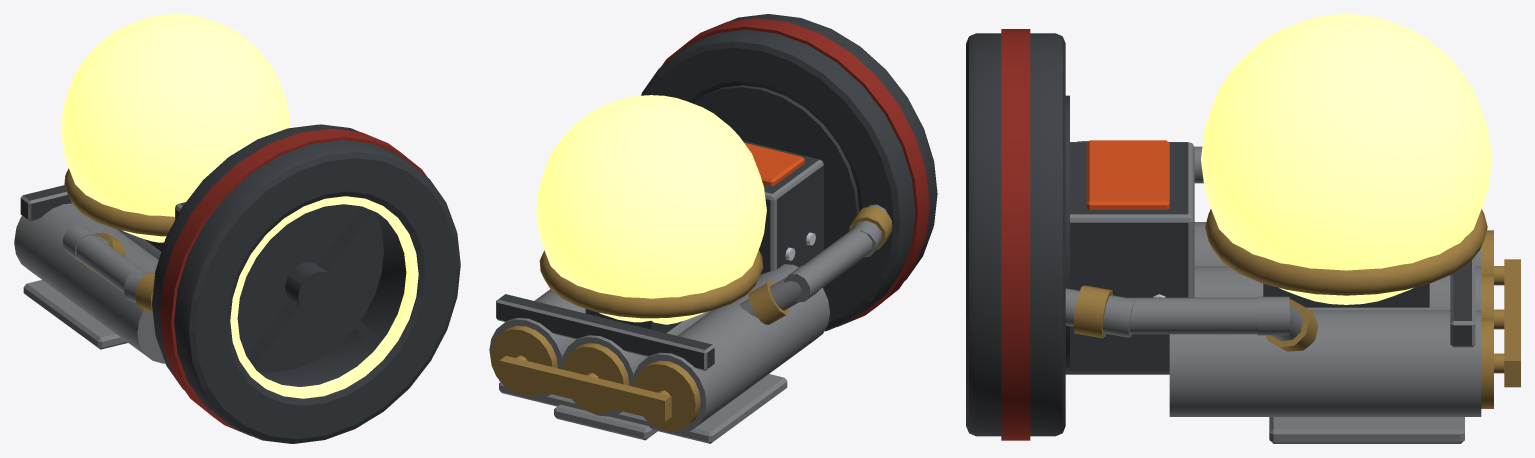
File: gauntlet_repulsor.fbx
3 views of the same model, side by side, from view 1: azimuth 30°, elevation 25°; view 2: azimuth 150°, elevation 25°; view 3: azimuth 270°, elevation 25° (orthographic). The views are drawn at different scales.
Parts seen in each view (by area): view 1: Mesh_Repulsor_Ring, Mesh_Repulsor_Capacitor, Mesh_Repulsor_Backplate, Mesh_Repulsor_CapLeft, Mesh_Repulsor_Stripe, Mesh_Repulsor_Glow, Mesh_Repulsor_Vanes, Mesh_Repulsor_ConduitLeft, Mesh_Repulsor_Cradle, Mesh_Repulsor_Bracket, Mesh_Repulsor_Strap; view 2: Mesh_Repulsor_Capacitor, Mesh_Repulsor_Ring, Mesh_Repulsor_CapLeft, Mesh_Repulsor_Backplate, Mesh_Repulsor_Stripe, Mesh_Repulsor_Throat, Mesh_Repulsor_ConduitLeft, Mesh_Repulsor_Strap, Mesh_Repulsor_Cradle, Mesh_Repulsor_BusBar, Mesh_Repulsor_Bracket, Mesh_Repulsor_CapRight (+2 smaller); view 3: Mesh_Repulsor_Capacitor, Mesh_Repulsor_CapRight, Mesh_Repulsor_Ring, Mesh_Repulsor_Throat, Mesh_Repulsor_Stripe, Mesh_Repulsor_ConduitRight, Mesh_Repulsor_Cradle, Mesh_Repulsor_Cover, Mesh_Repulsor_Bracket, Mesh_Repulsor_CapMid, Mesh_Repulsor_BusBar, Mesh_Repulsor_Strap (+2 smaller).
Boxes of the visible parts, x1,y1,x2,y2 form: Mesh_Repulsor_Ring: [152, 124, 460, 443]; Mesh_Repulsor_Capacitor: [60, 14, 290, 242]; Mesh_Repulsor_Backplate: [237, 204, 383, 372]; Mesh_Repulsor_CapLeft: [14, 203, 165, 363]; Mesh_Repulsor_Stripe: [159, 128, 426, 436]; Mesh_Repulsor_Glow: [230, 196, 418, 398]; Mesh_Repulsor_Vanes: [246, 206, 382, 371]; Mesh_Repulsor_ConduitLeft: [63, 225, 154, 312]; Mesh_Repulsor_Cradle: [64, 168, 174, 251]; Mesh_Repulsor_Bracket: [23, 280, 127, 349]; Mesh_Repulsor_Strap: [20, 185, 71, 221]; Mesh_Repulsor_Capacitor: [536, 95, 766, 324]; Mesh_Repulsor_Ring: [641, 14, 937, 331]; Mesh_Repulsor_CapLeft: [632, 264, 829, 433]; Mesh_Repulsor_Backplate: [693, 85, 859, 249]; Mesh_Repulsor_Stripe: [661, 18, 929, 326]; Mesh_Repulsor_Throat: [743, 141, 823, 274]; Mesh_Repulsor_ConduitLeft: [739, 204, 892, 324]; Mesh_Repulsor_Strap: [496, 294, 714, 370]; Mesh_Repulsor_Cradle: [539, 250, 763, 333]; Mesh_Repulsor_BusBar: [499, 356, 671, 421]; Mesh_Repulsor_Bracket: [499, 374, 787, 443]; Mesh_Repulsor_CapRight: [489, 289, 585, 398]; Mesh_Repulsor_Capacitor: [1201, 14, 1491, 304]; Mesh_Repulsor_CapRight: [1169, 310, 1504, 416]; Mesh_Repulsor_Ring: [966, 33, 1065, 436]; Mesh_Repulsor_Throat: [1065, 142, 1194, 374]; Mesh_Repulsor_Stripe: [1001, 29, 1030, 440]; Mesh_Repulsor_ConduitRight: [1065, 285, 1318, 351]; Mesh_Repulsor_Cradle: [1205, 209, 1487, 307]; Mesh_Repulsor_Cover: [1086, 140, 1169, 209]; Mesh_Repulsor_Bracket: [1269, 417, 1464, 443]; Mesh_Repulsor_CapMid: [1194, 266, 1504, 329]; Mesh_Repulsor_BusBar: [1504, 259, 1520, 387]; Mesh_Repulsor_Strap: [1450, 256, 1475, 347].
Size of the model in its own units: 39.6 by 41.8 by 53.4.
